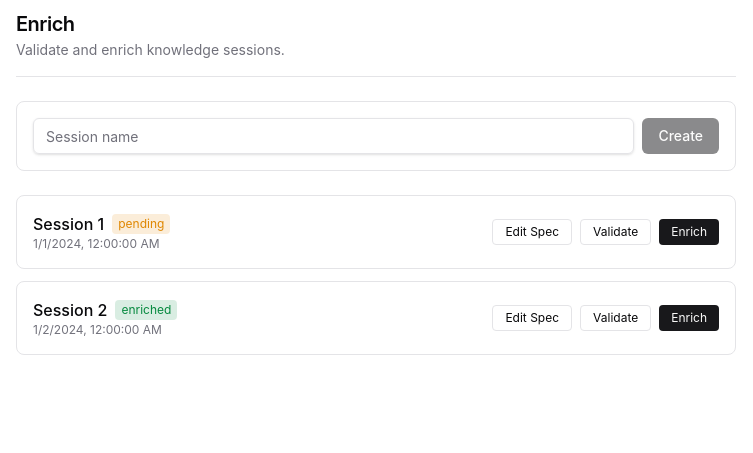
Scenario: EnrichView › shows enricher output after enrich
Click the button "Enrich" in the row of "pending" at (689, 232), box [659,219,719,245]
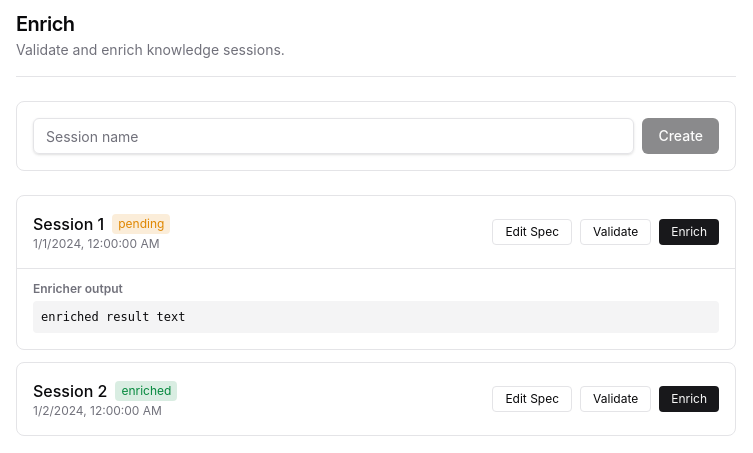
Check: the text "enriched result text" is shown, box [33,301,719,333]
